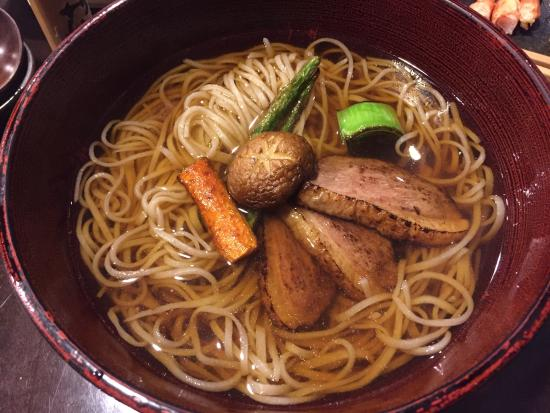Soba: (81, 44, 505, 394)
